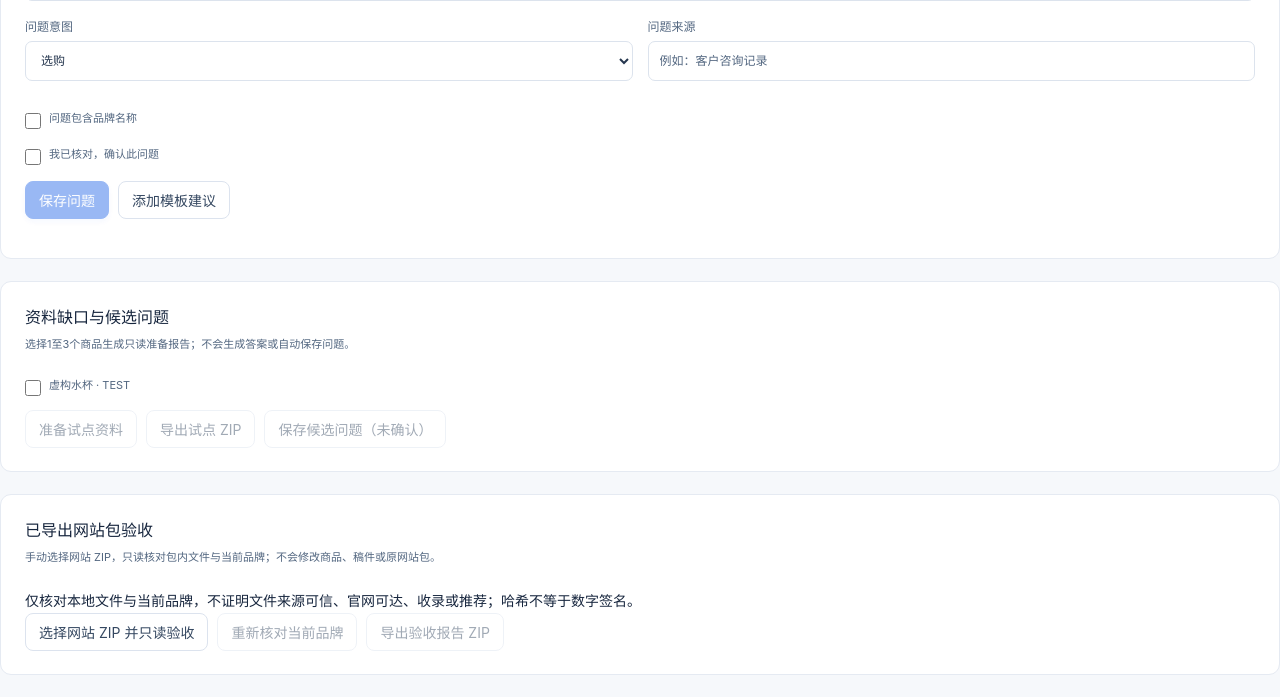
reports skipped confirmed candidates without relabelling them unconfirmed
This screenshot has width=1280, height=697.
(page scrolled)
Click the checkbox labelled "虚构水杯 · TEST" at (33, 388), box [25,380,41,396]
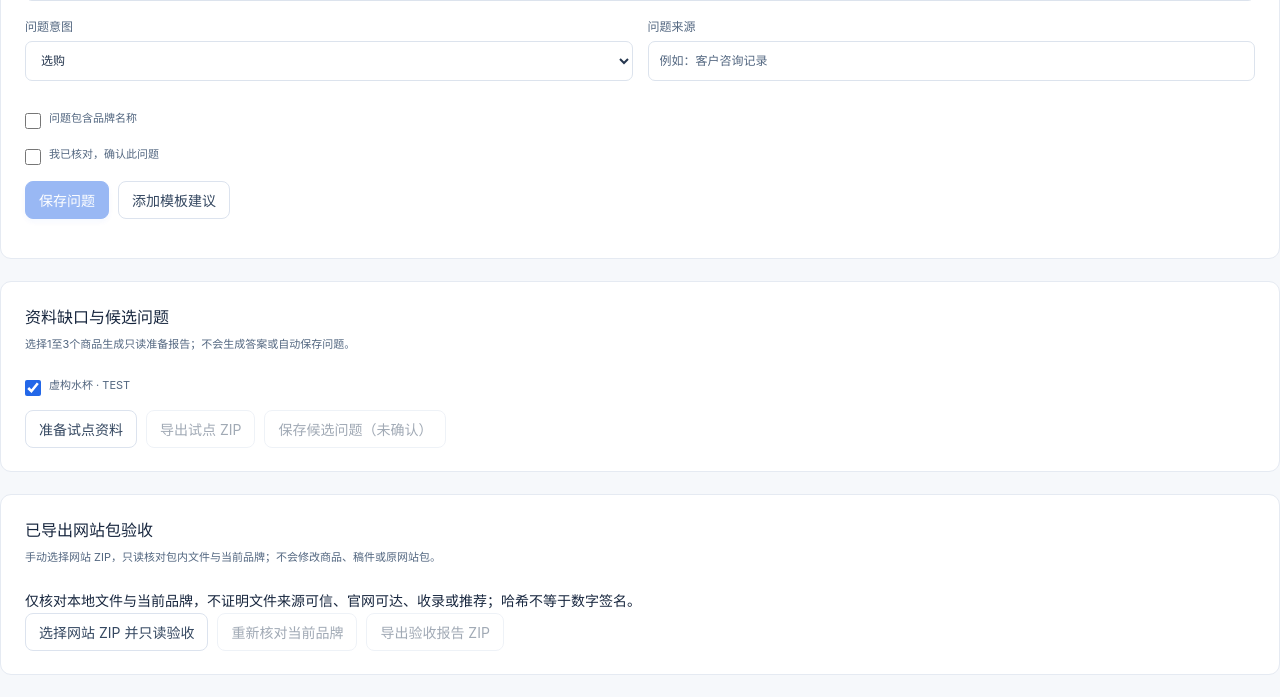
Click the button "准备试点资料" at (81, 429), box [25,410,137,448]
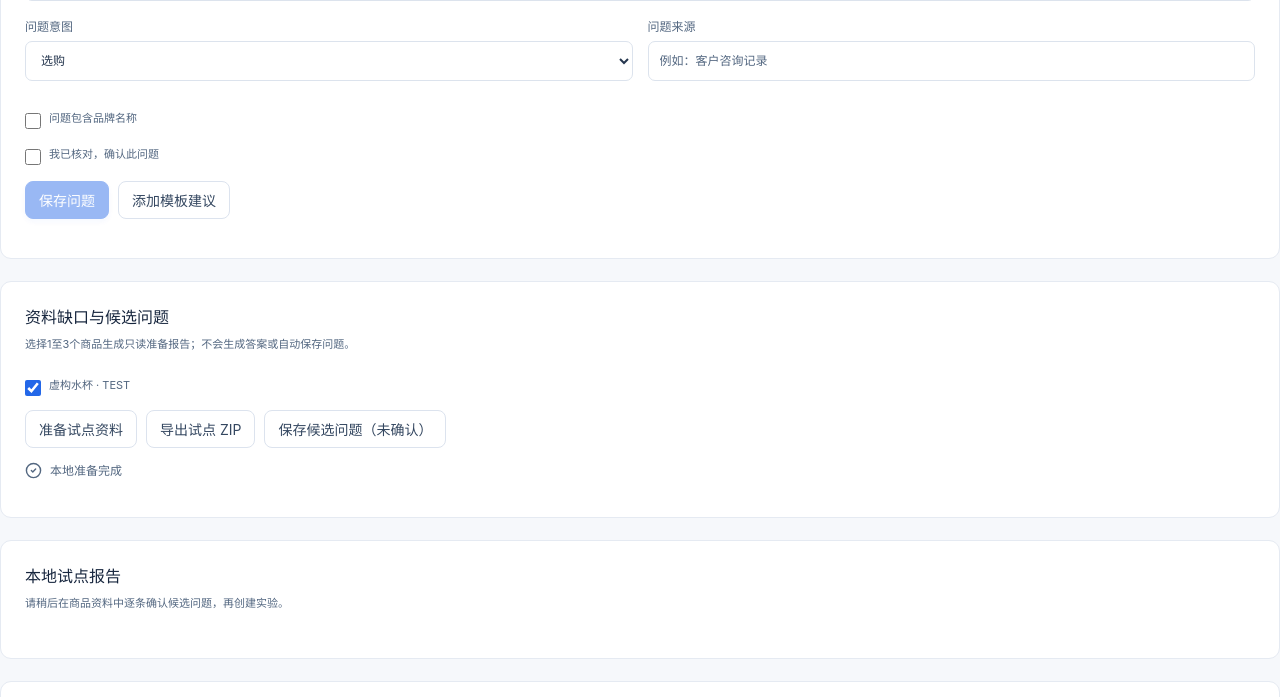
Result: the button "保存候选问题（未确认）" is enabled
Click the button "保存候选问题（未确认）" at (356, 429), box [264,410,446,448]
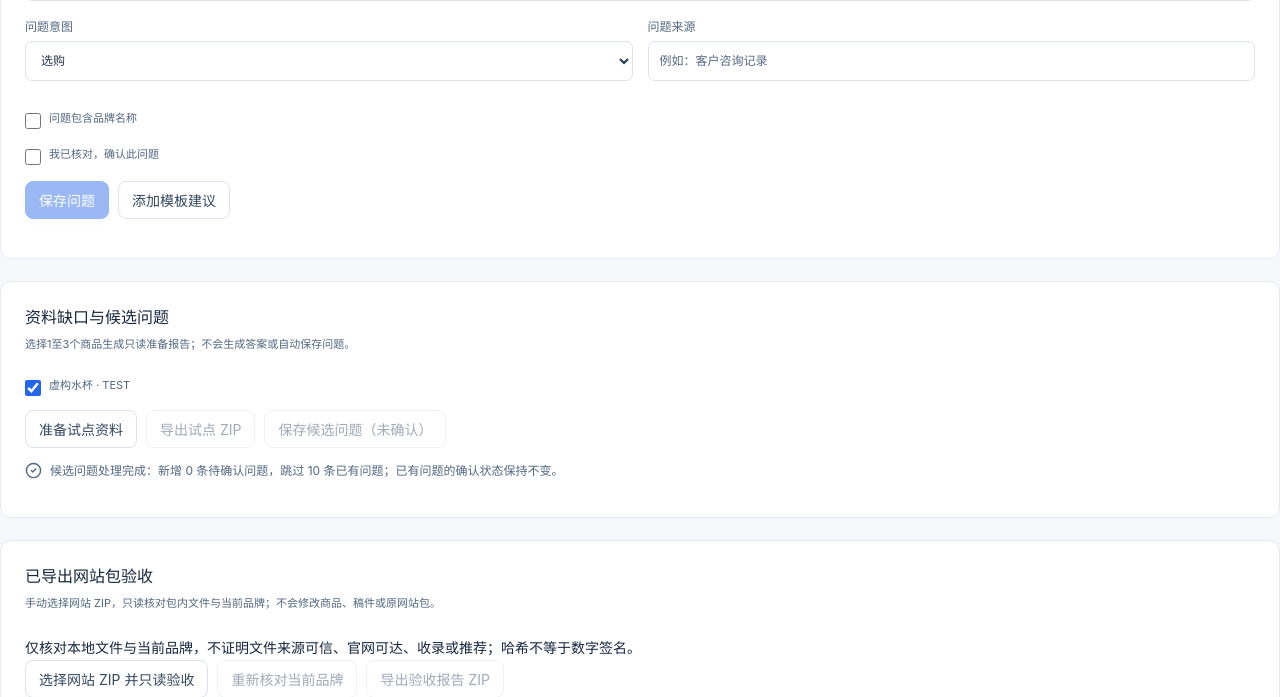
Result: the text "候选问题处理完成：新增 0 条待确认问题，跳过 10 条已有问题；已有问题的确认状态保持不变。" is shown at [25,462,564,479]
